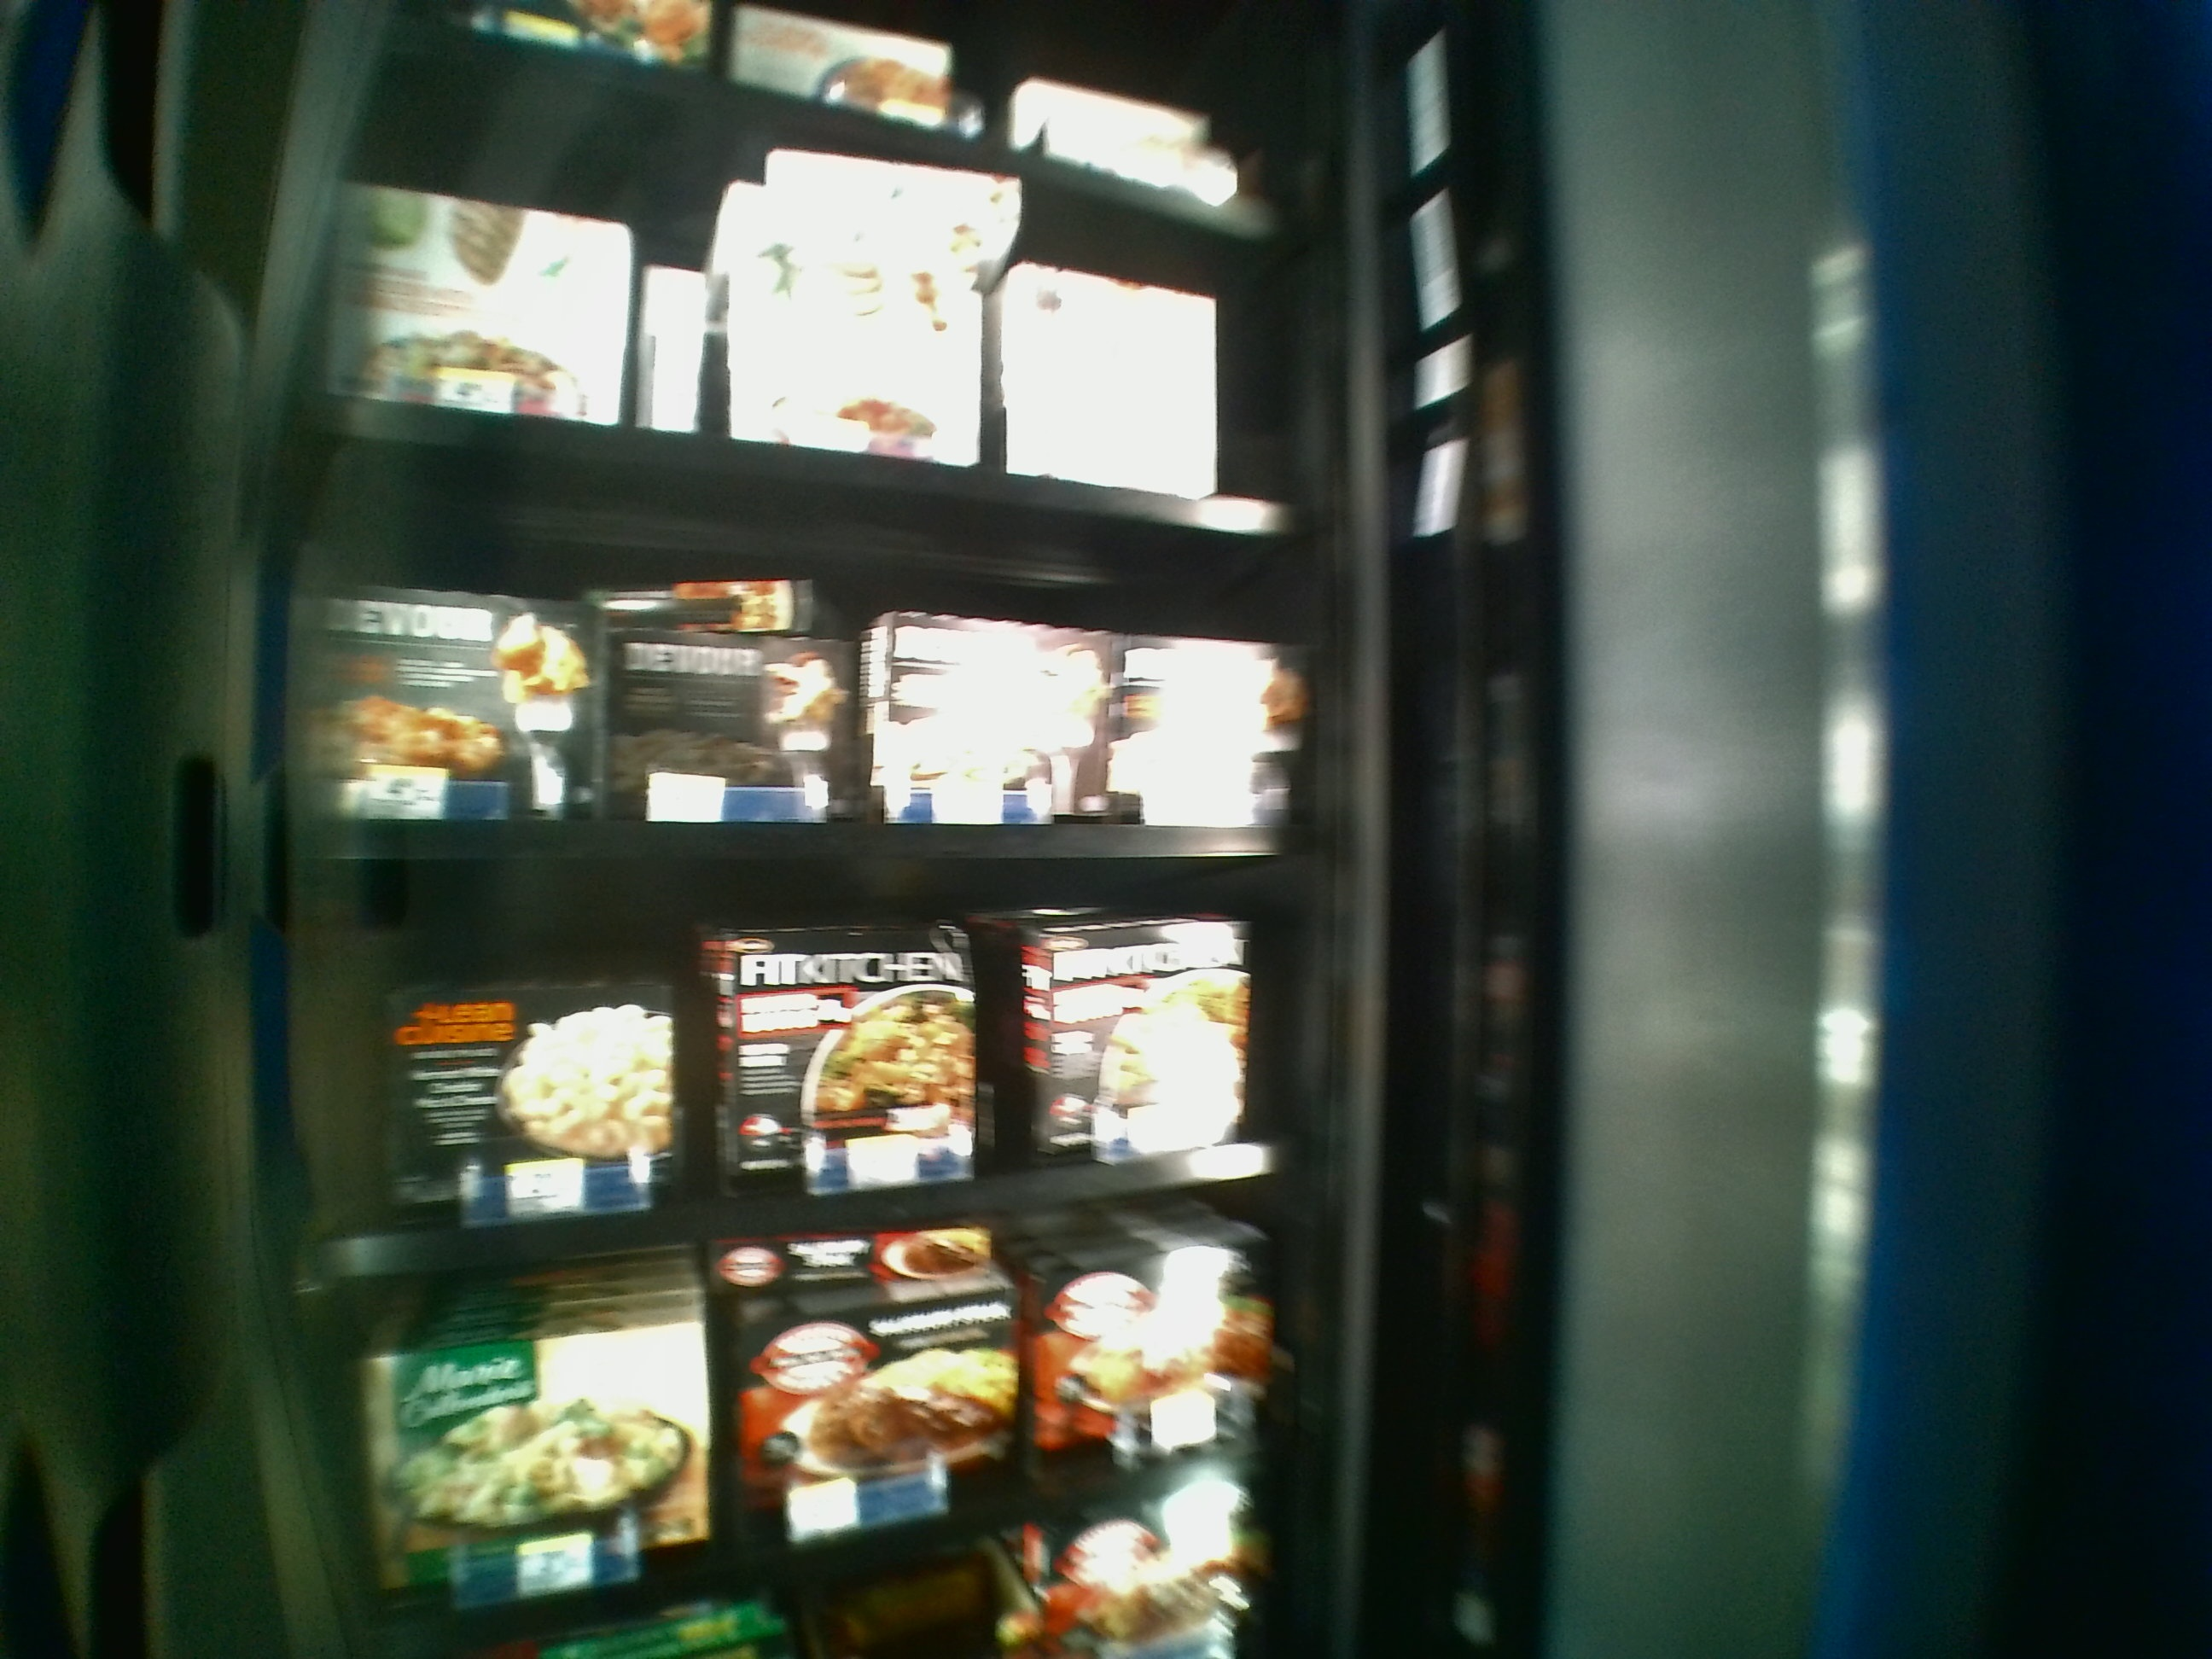shelf: (296, 441, 1322, 859), (296, 871, 1320, 1276)
